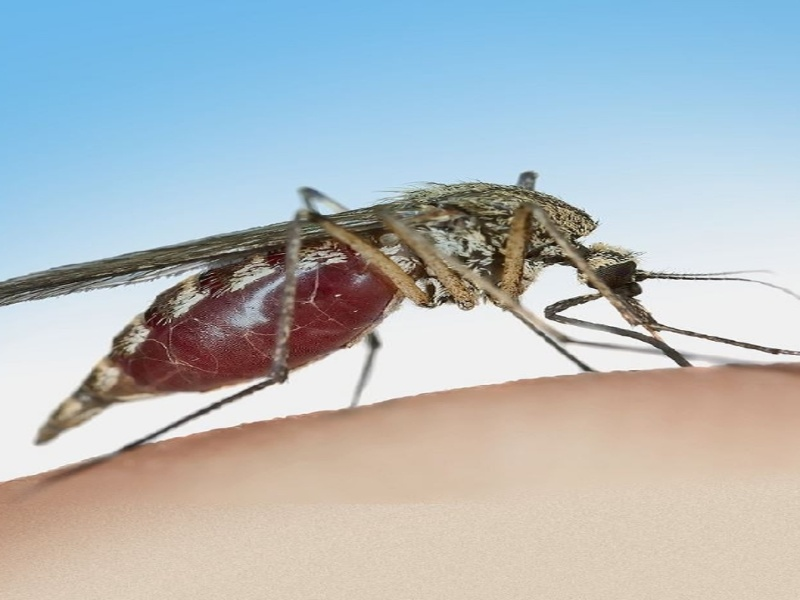dengue_mosquito: (1, 171, 722, 365)
